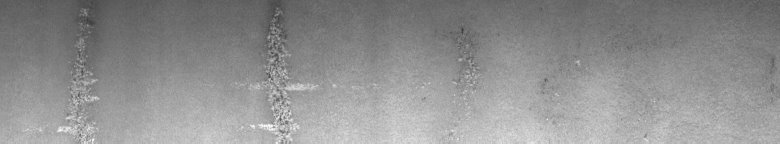hc: (235, 4, 319, 136)
